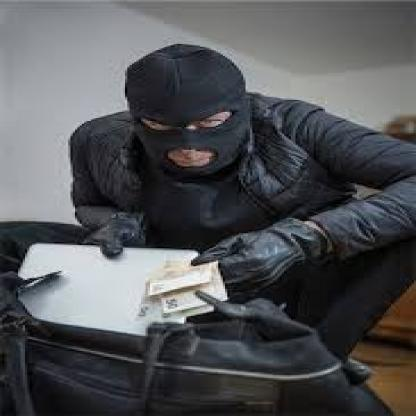criminal: (69, 44, 416, 379)
